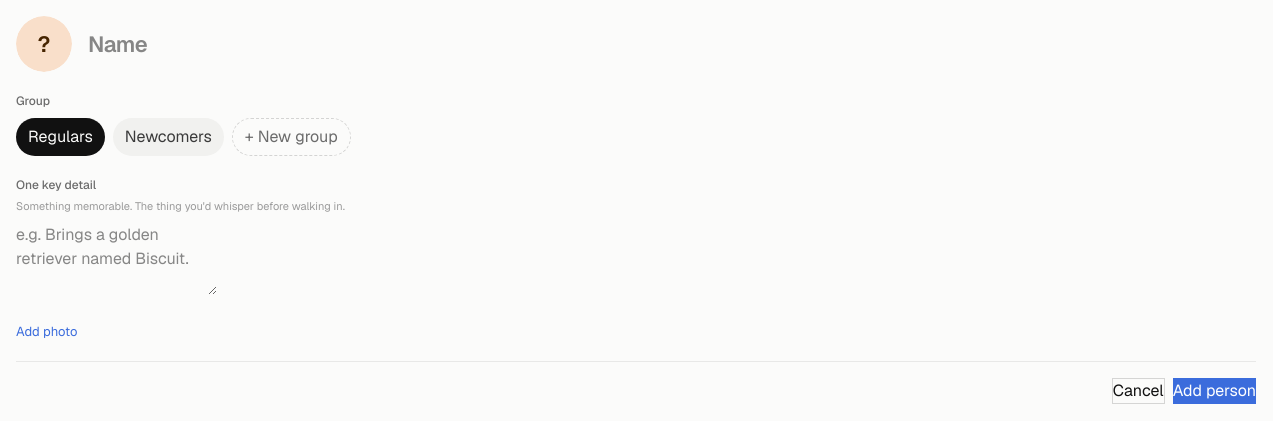
Test: PersonForm — add mode › reveals a group-name input when '+ New group' is clicked
The width and height of the screenshot is (1273, 421).
Expected: the field with placeholder "Group name" is not shown
Click the button "+ New group" at (291, 137), box [232, 118, 351, 156]
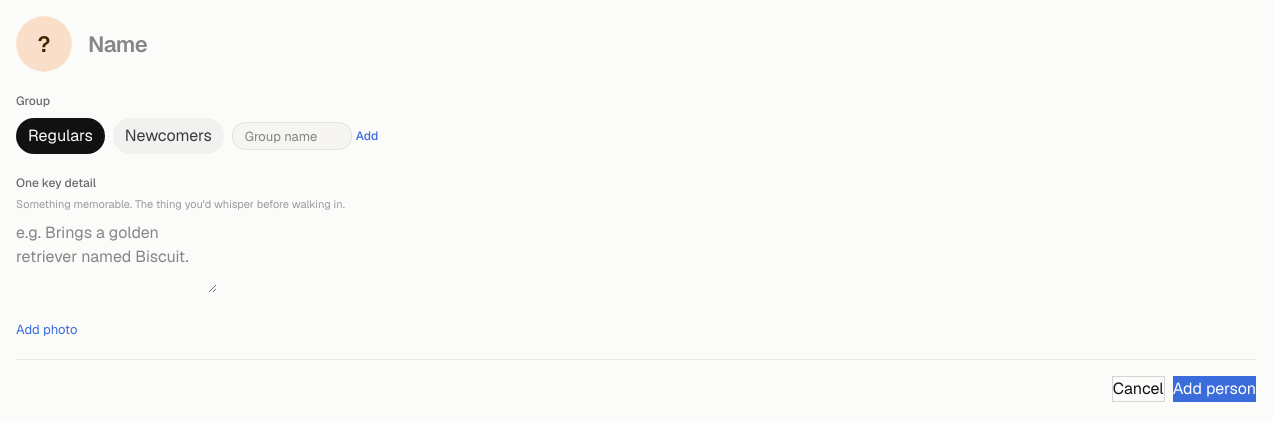
Expected: the field with placeholder "Group name" is shown, [232, 122, 352, 150]
